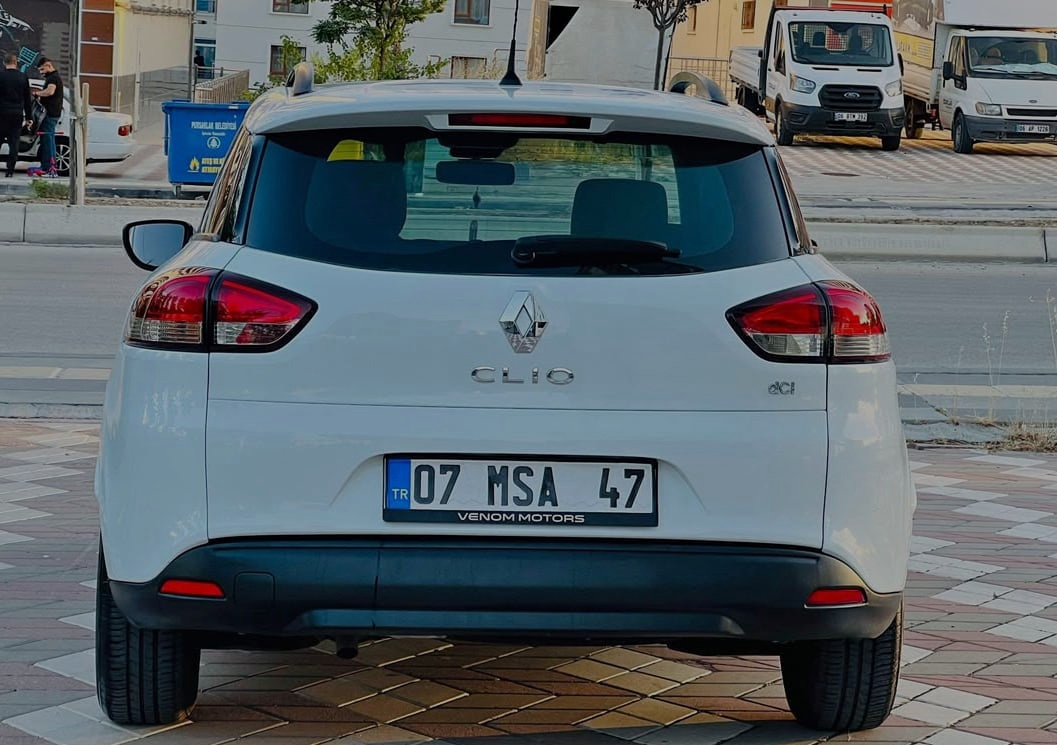plaka: (403, 443, 656, 525)
